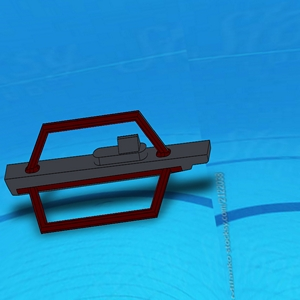submarine: (7, 112, 210, 233)
